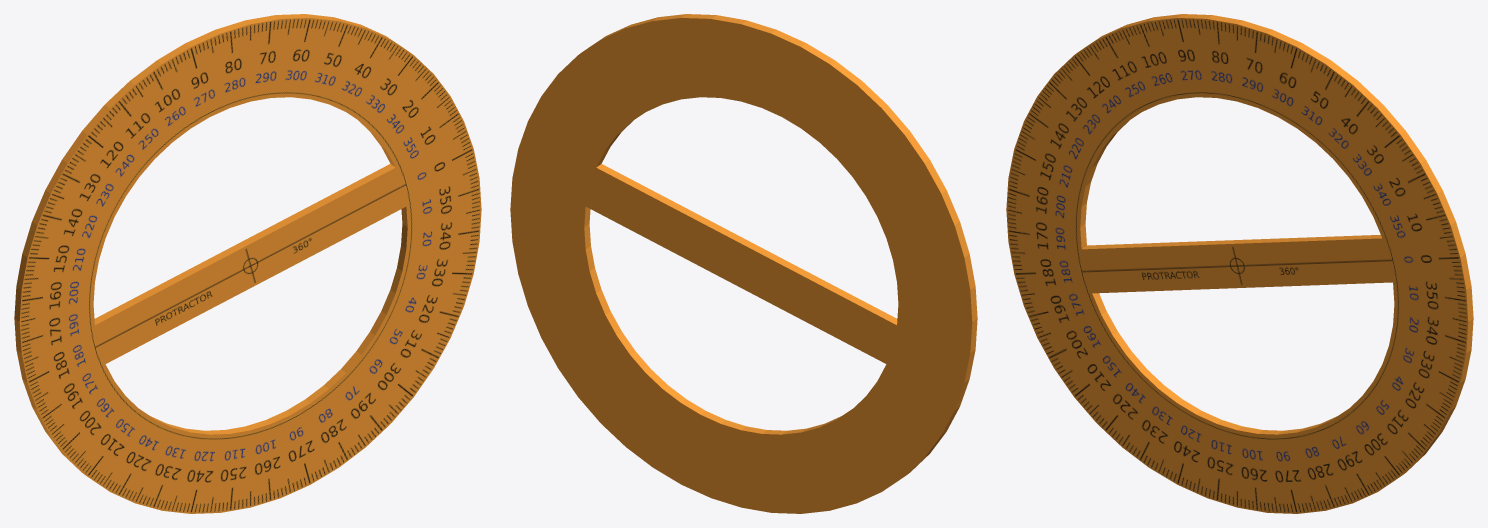
The model's file is Protractor.fbx.
The picture shows the model from 3 angles, left to right: view 1: azimuth 30°, elevation 25°; view 2: azimuth 150°, elevation 25°; view 3: azimuth 330°, elevation 25°; orthographic projection.
Visible parts, largest first — view 1: Protractor_Body; view 2: Protractor_Body; view 3: Protractor_Body.
Boxes of the visible parts, bbox=[...] form: Protractor_Body: bbox=[14, 14, 481, 513]; Protractor_Body: bbox=[510, 14, 977, 513]; Protractor_Body: bbox=[1006, 14, 1473, 513].
Bounding box in the file's own units: 0.1 × 0.1 × 0.002.
1 material, 1 textured.
